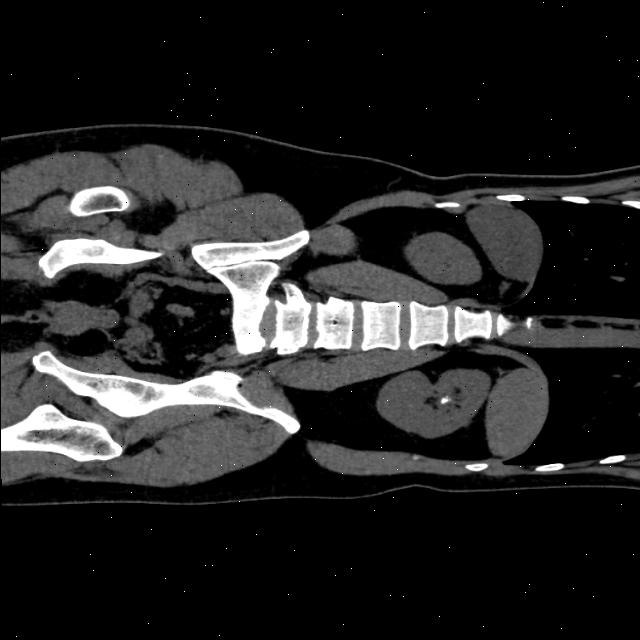kidneystone: (440, 396, 448, 402)
